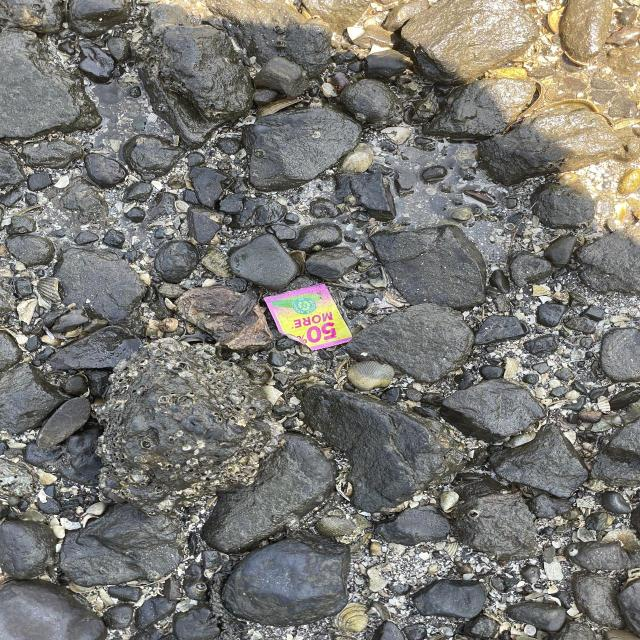plastic_waste: (267, 287, 359, 353)
